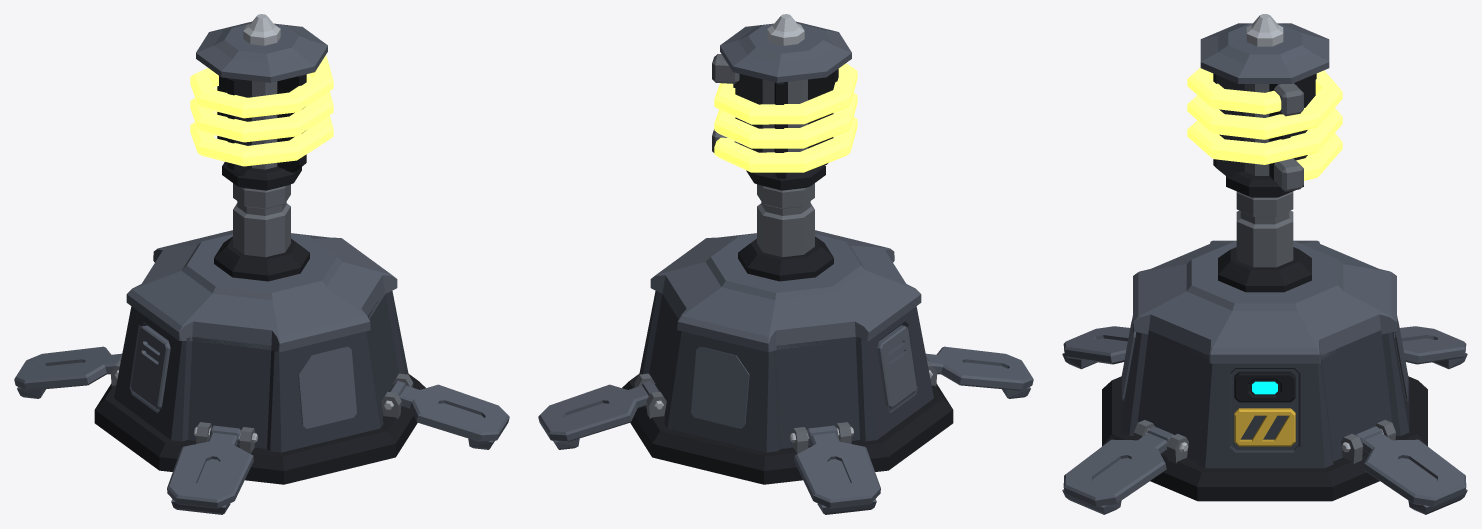
The model's file is Stim.fbx.
3 renders of one model, left to right at view 1: azimuth 30°, elevation 25°; view 2: azimuth 150°, elevation 25°; view 3: azimuth 270°, elevation 25°, orthographic. The views are drawn at different scales.
Parts seen in each view (by area): view 1: Housing, Shoulder, Coil_Yellow, Foot, Crown, Leg3, Mast, Leg4, SidePanels, Leg2, Collar, BackHatch (+4 smaller); view 2: Housing, Shoulder, Coil_Yellow, Foot, Crown, Leg2, Mast, Leg1, SidePanels, Leg3, Collar, BackHatch (+5 smaller); view 3: Housing, Shoulder, Coil_Yellow, Foot, Crown, Leg1, Leg4, Mast, Collar, Leg2, Leg3, Hazard (+7 smaller).
Boxes of the visible parts, x1,y1,x2,y2 form: Housing: [114, 291, 408, 452]; Shoulder: [126, 230, 397, 352]; Coil_Yellow: [190, 54, 333, 166]; Foot: [94, 374, 425, 484]; Crown: [196, 21, 327, 82]; Leg3: [167, 425, 253, 514]; Mast: [233, 81, 290, 257]; Leg4: [388, 381, 509, 449]; SidePanels: [298, 347, 356, 428]; Leg2: [14, 346, 122, 398]; Collar: [214, 236, 309, 281]; BackHatch: [131, 325, 170, 408]; Housing: [639, 290, 933, 452]; Shoulder: [650, 230, 921, 352]; Coil_Yellow: [714, 63, 857, 172]; Foot: [622, 374, 953, 484]; Crown: [720, 21, 851, 82]; Leg2: [794, 425, 880, 514]; Mast: [757, 79, 814, 257]; Leg1: [538, 381, 659, 449]; SidePanels: [691, 347, 749, 428]; Leg3: [925, 346, 1033, 398]; Collar: [738, 236, 833, 281]; BackHatch: [877, 325, 916, 408]; Housing: [1120, 316, 1409, 468]; Shoulder: [1133, 240, 1396, 363]; Coil_Yellow: [1187, 67, 1342, 180]; Foot: [1102, 376, 1427, 501]; Crown: [1200, 23, 1329, 83]; Leg1: [1356, 426, 1467, 514]; Leg4: [1062, 426, 1173, 514]; Mast: [1236, 84, 1293, 267]; Collar: [1218, 247, 1311, 292]; Leg2: [1399, 326, 1467, 369]; Leg3: [1062, 326, 1130, 369]; Hazard: [1234, 408, 1295, 446].
Bounding box in the file's own units: 1.02 × 1.16 × 1.02.
